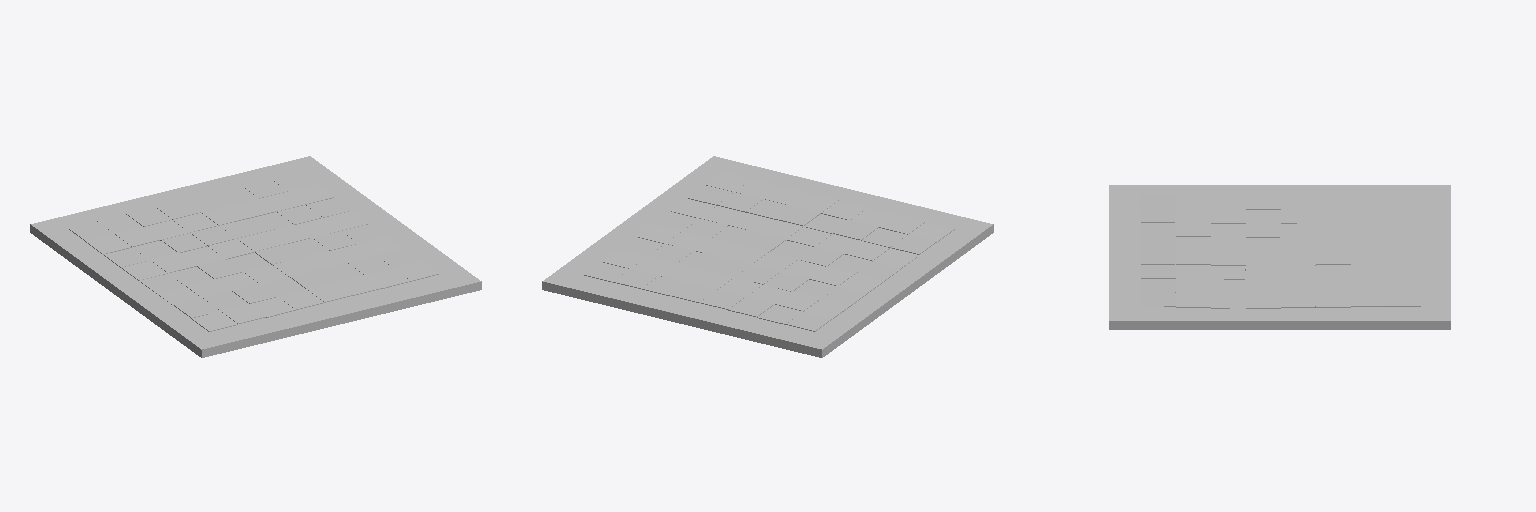
Rendered from chessboard.obj.
The picture shows the model from 3 angles: view 1: azimuth 30°, elevation 25°; view 2: azimuth 150°, elevation 25°; view 3: azimuth 270°, elevation 25°; orthographic projection.
Visible parts, largest first — view 1: Cube.049_Cube.168, Cube; view 2: Cube.049_Cube.168, Cube; view 3: Cube.049_Cube.168, Cube.
Part boxes in pixels (x1,y1,x2,y2): Cube.049_Cube.168: (69, 172, 438, 331); Cube: (30, 156, 481, 357); Cube.049_Cube.168: (584, 172, 954, 331); Cube: (542, 156, 993, 357); Cube.049_Cube.168: (1140, 194, 1420, 308); Cube: (1109, 185, 1450, 329).
Size of the model in its own units: 6.85 by 0.2587 by 7.26.